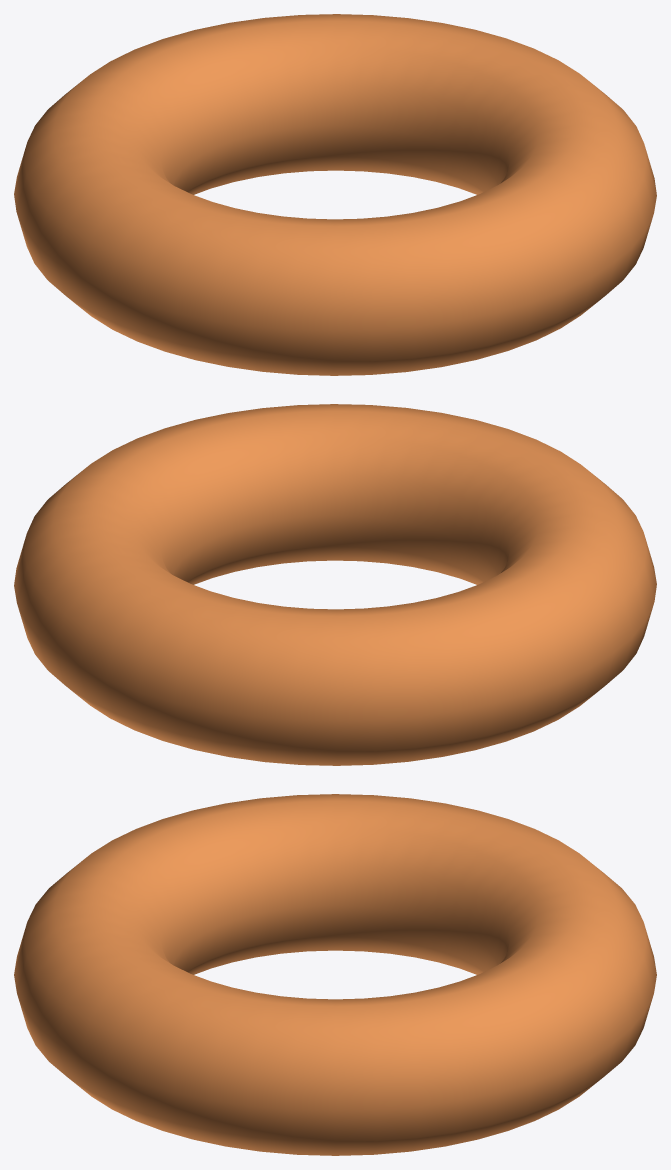
The model's file is Copper Ring.fbx.
3 views of the same model, one above another, from view 1: azimuth 30°, elevation 25°; view 2: azimuth 150°, elevation 25°; view 3: azimuth 270°, elevation 25° (orthographic).
Visible parts, largest first — view 1: Copper Ring; view 2: Copper Ring; view 3: Copper Ring.
Part boxes in pixels (box(x1,y1,x2,y2)): Copper Ring: box(14, 14, 656, 375); Copper Ring: box(14, 404, 656, 765); Copper Ring: box(14, 794, 656, 1155).
Size of the model in its own units: 18 by 4.4 by 18.
